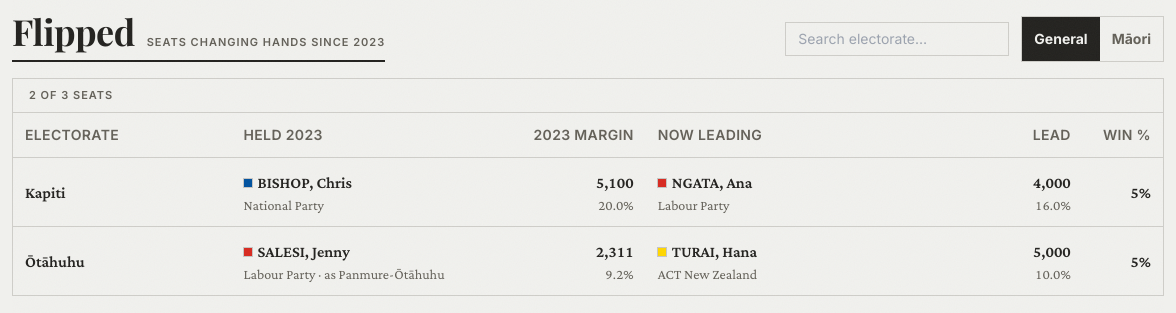
Flipped page › splits general and Māori seats
Expected: the text "Ōtāhuhu" is shown, x1=25 y1=252 x2=85 y2=269
Expected: the text "Tāmaki Makaurau" is not shown
Click the button "Māori" at (1131, 39), box x1=1100 y1=17 x2=1163 y2=61
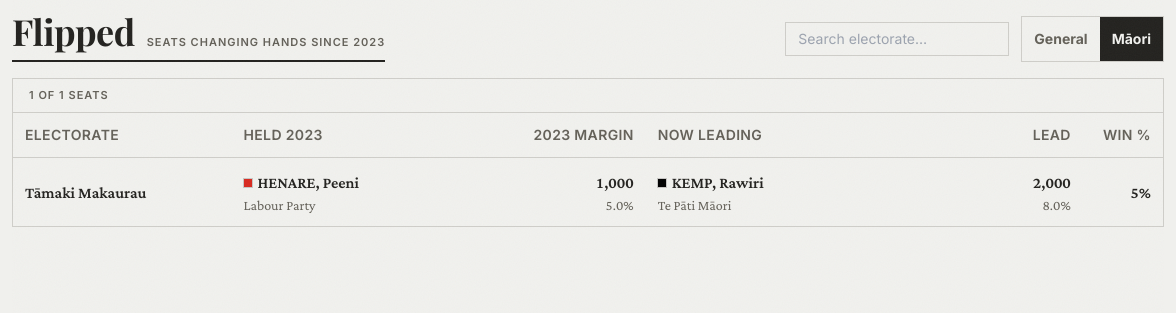
Expected: the text "Tāmaki Makaurau" is shown, x1=25 y1=183 x2=146 y2=200
Expected: the button "Ōtāhuhu" is gone
